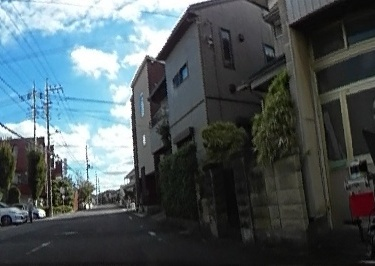person: (26, 196, 34, 222)
